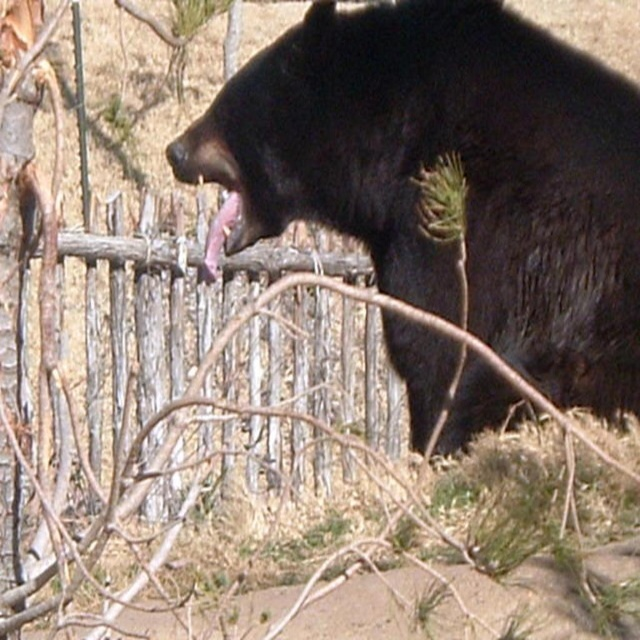Bear: (163, 0, 639, 468)
